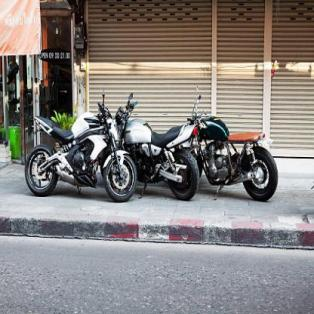Motocicleta: (23, 99, 142, 201), (115, 88, 202, 200), (190, 102, 282, 204)
